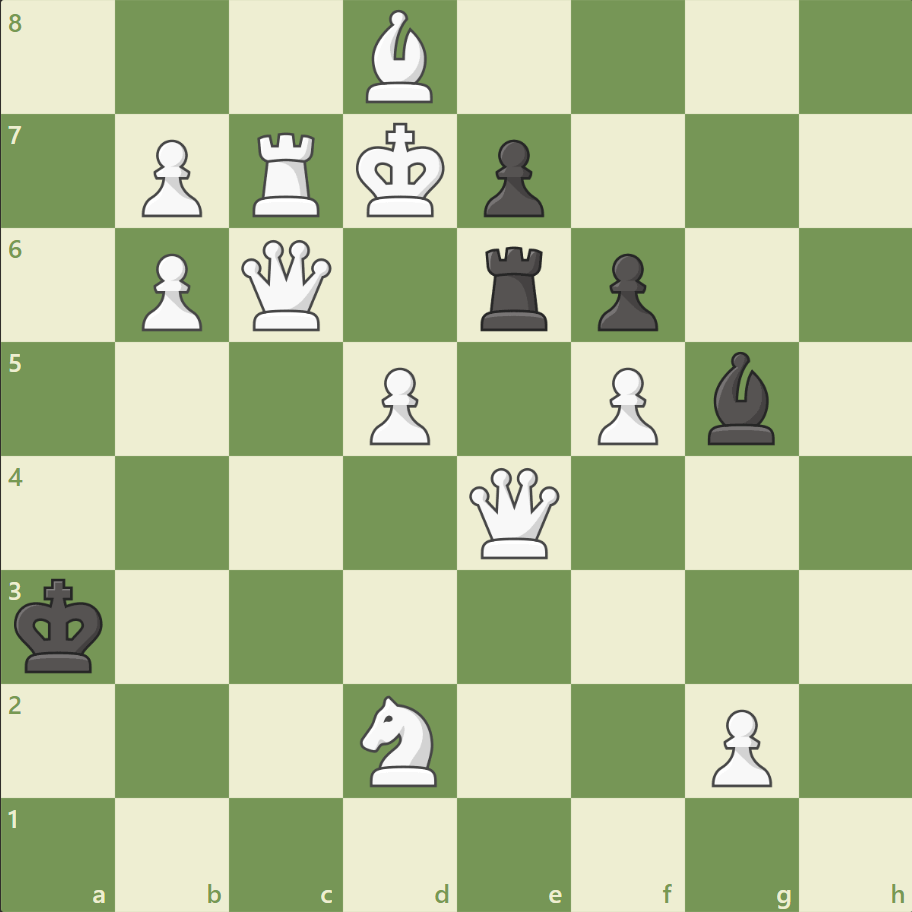B: (358, 6, 442, 109)
K: (351, 117, 451, 225)
N: (351, 688, 449, 791)
P: (133, 132, 208, 223), (133, 246, 208, 337), (701, 700, 776, 791), (361, 359, 435, 450), (588, 359, 662, 450)
Q: (237, 236, 336, 335), (464, 463, 563, 562)
R: (246, 125, 329, 222)
b: (698, 347, 782, 449)
k: (11, 571, 111, 679)
p: (474, 132, 549, 223), (588, 246, 662, 337)
r: (473, 239, 556, 336)
